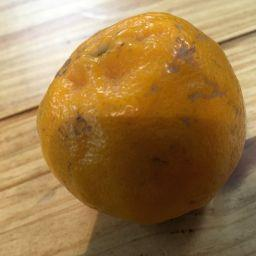Unripe: (37, 13, 245, 225)
